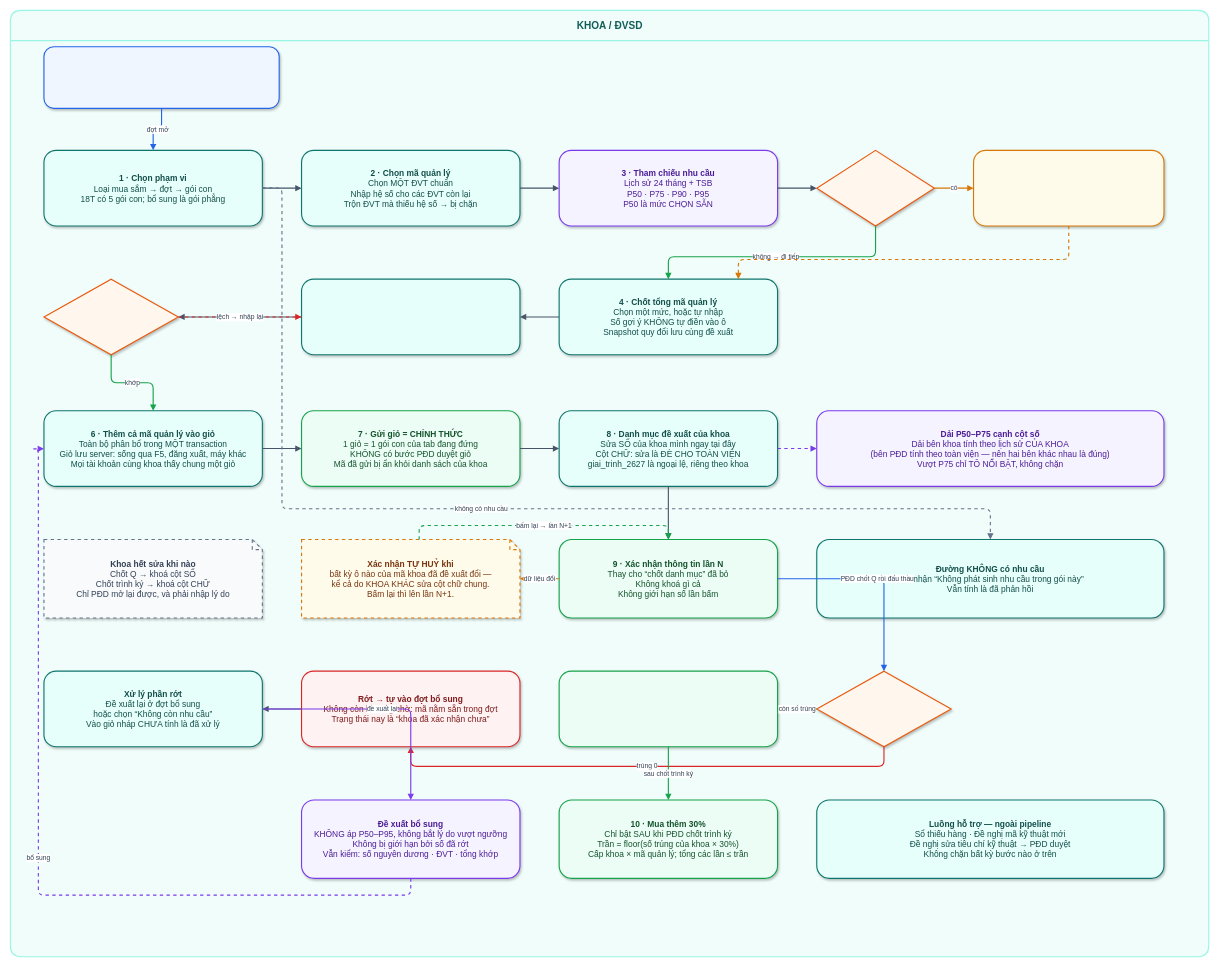
Some shapes in this 1219 by 967 pixel diagram are drawn without their labels. Here are the shapes that lost their labels. From the top down, the centre of each, then its label:
At [162,78]: "Tín hiệu từ PĐD Đợt đang MỞ và khoa có trong danh sách tham gia".
At [876,188]: "Số nhập > P75 ?".
At [1069,188]: "Có Bắt buộc nhập lý do + ghi chú Dưới P50 thì KHÔNG hỏi gì".
At [111,317]: "KHOÁ CỨNG 1 tổng khớp?".
At [411,317]: "5 · Phân bổ xuống mã hàng Chỉ số nguyên dương Quy đổi từng mã về ĐVT chuẩn".
At [668,709]: "Trúng Nhận phân bổ số trúng do PĐD chia Khoa KHÔNG tự phân bổ".
At [884,709]: "Kết quả mã quản lý?".
